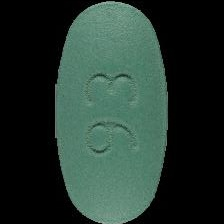0615-7604: (0, 0, 224, 224)
